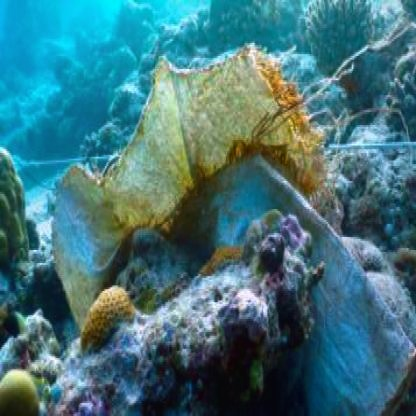plastic: (83, 64, 302, 216)
